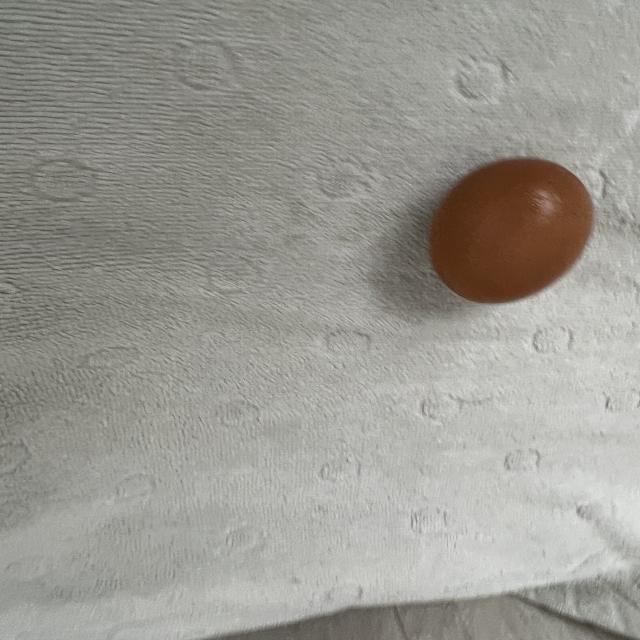Egg: (422, 155, 602, 310)
